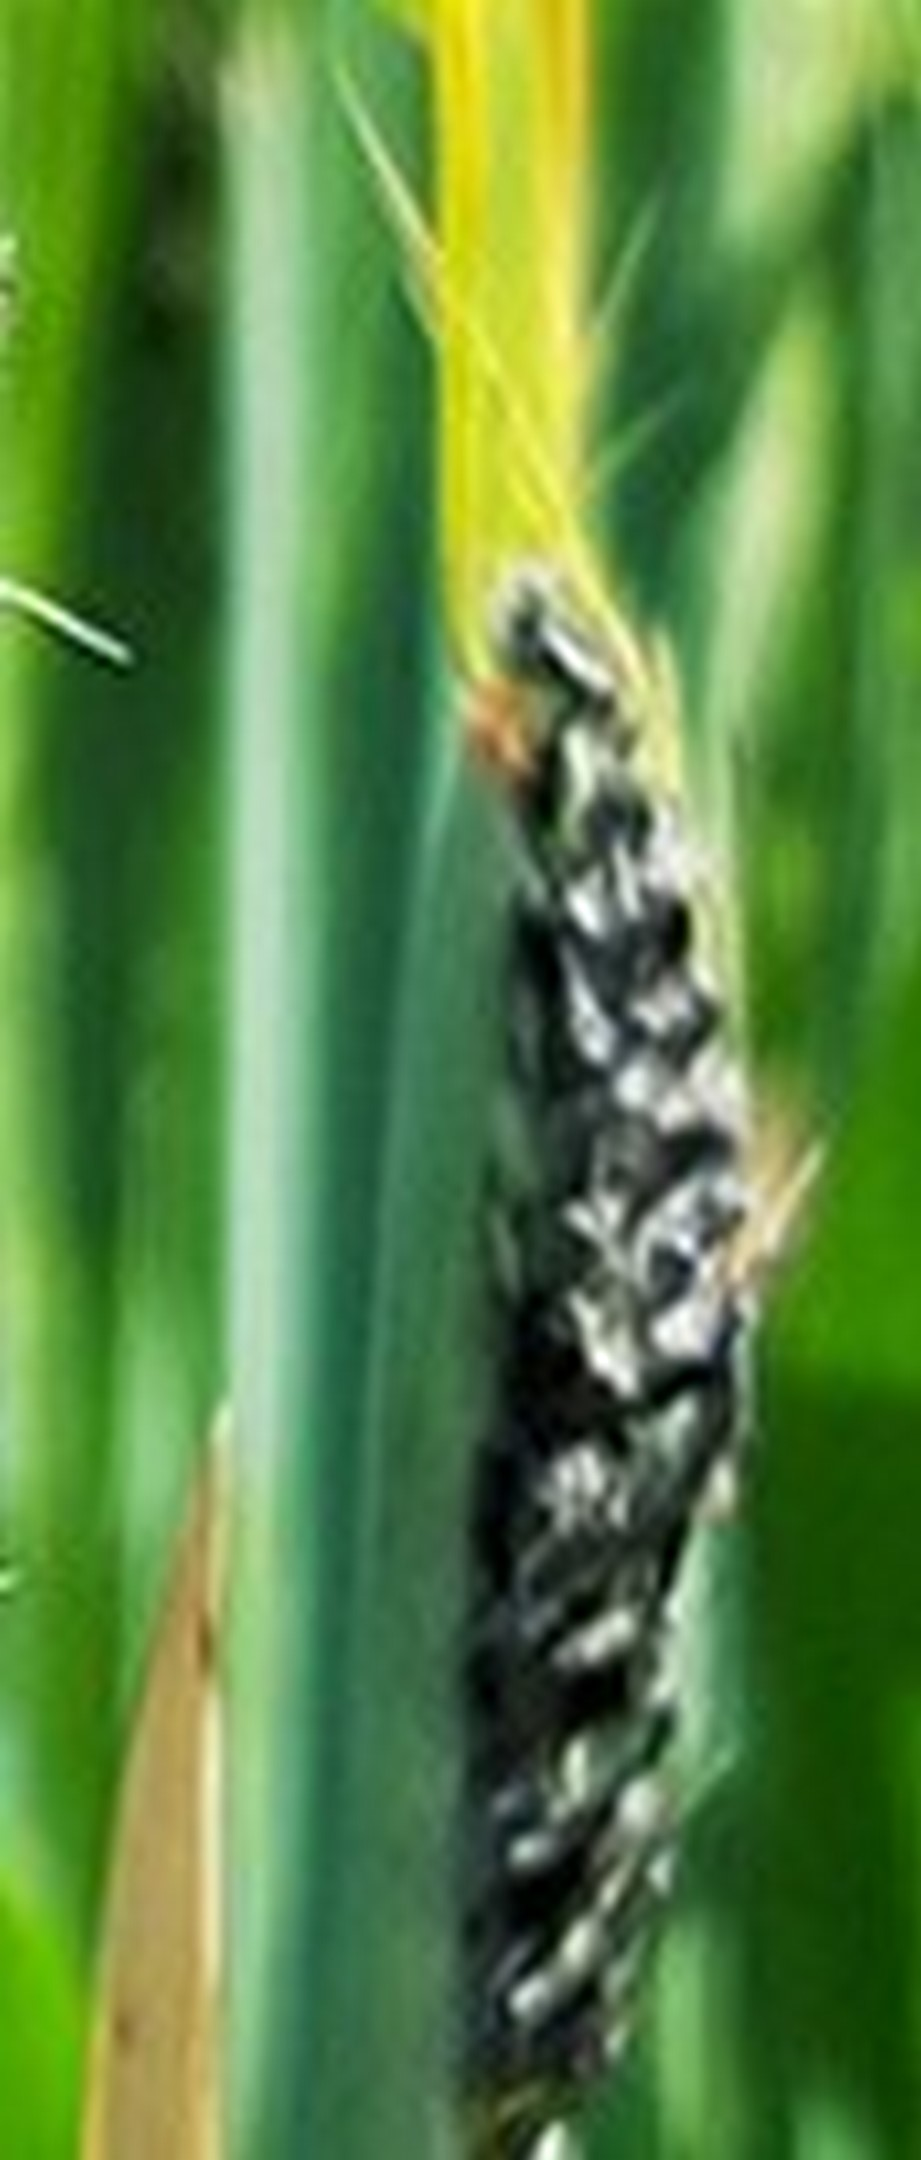Wheat Loose Smut: (398, 566, 748, 2145)
